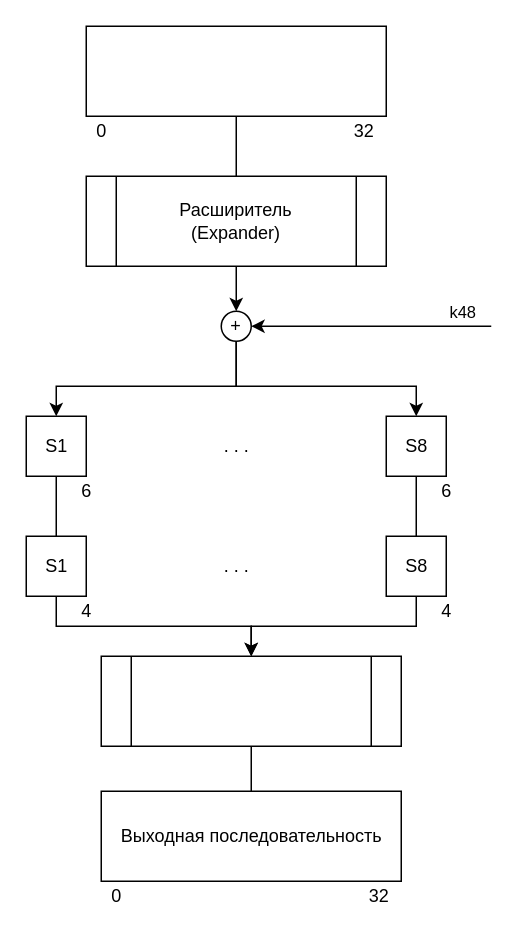
This 530x938 diagram has some shape labels left out. Here are the shapes that lost their labels. From the top down, the centre of each, then its label:
the point at 235,70: Входной блок
the point at 250,700: Перестановка (Permutation)
